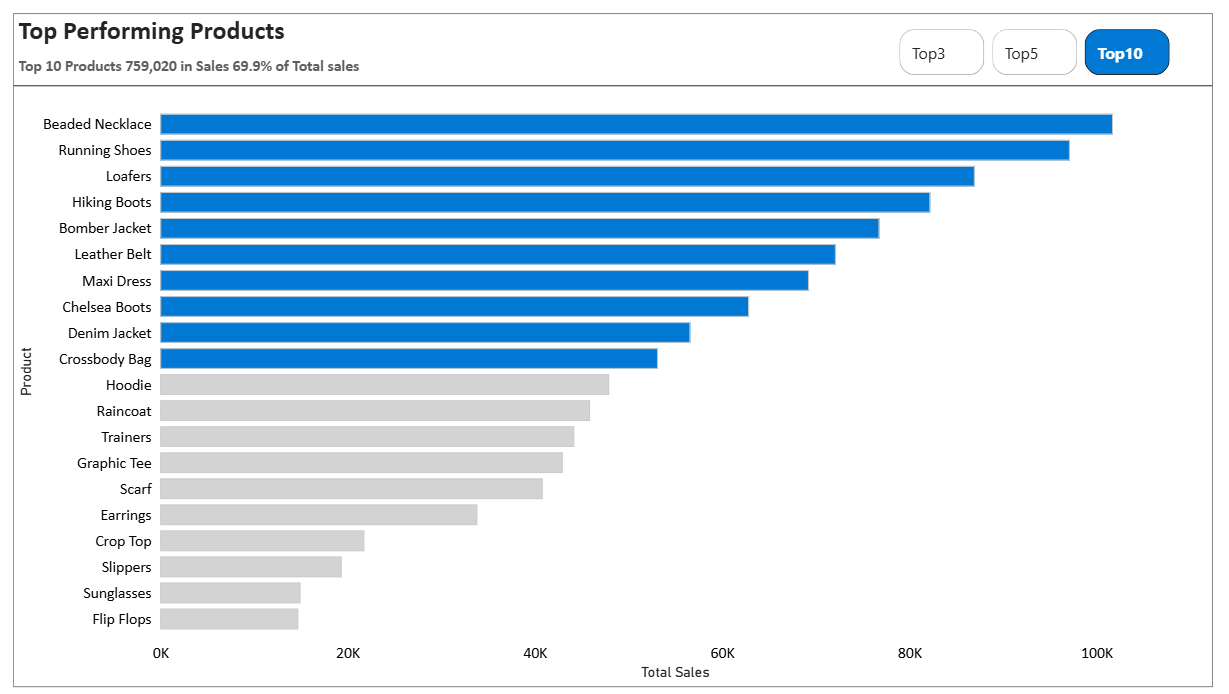

Layout of this report page (visuals, bound fields, positions):
{"tool":"powerbi","page":{"name":"TopN Products","canvas":[1280,720],"ordinal":0},"visuals":[{"type":"clusteredBarChart","title":"Top Performing Products","fields":{"Category":["Fact_sales.Product"],"Y":["Fact_sales.Total Sales"]},"box":[22.3,19.6,1229,689.9],"z":2},{"type":"advancedSlicerVisual","fields":{"Values":["TopN_parameter.Parameter Name"]},"box":[926,30.7,289.1,57.3],"z":3}]}

Visuals, with their boxes in screenshot pixels (x1, y1, x2, y2), scaled from the page's 1280x720 canvas onto the 1229x694 screenshot:
"Top Performing Products" clusteredBarChart: 21:19:1201:684
advancedSlicerVisual - TopN_parameter.Parameter Name: 889:30:1167:85
